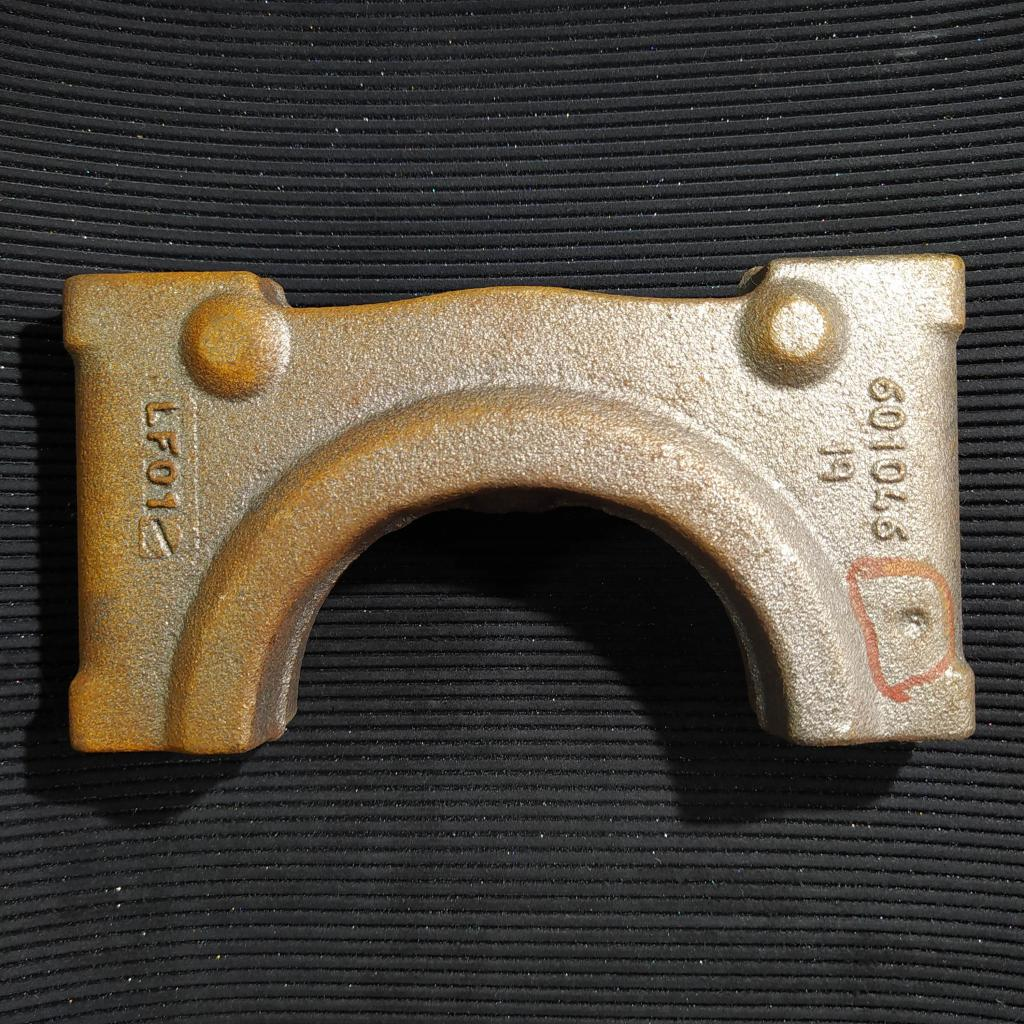buraco: (897, 603, 935, 644)
